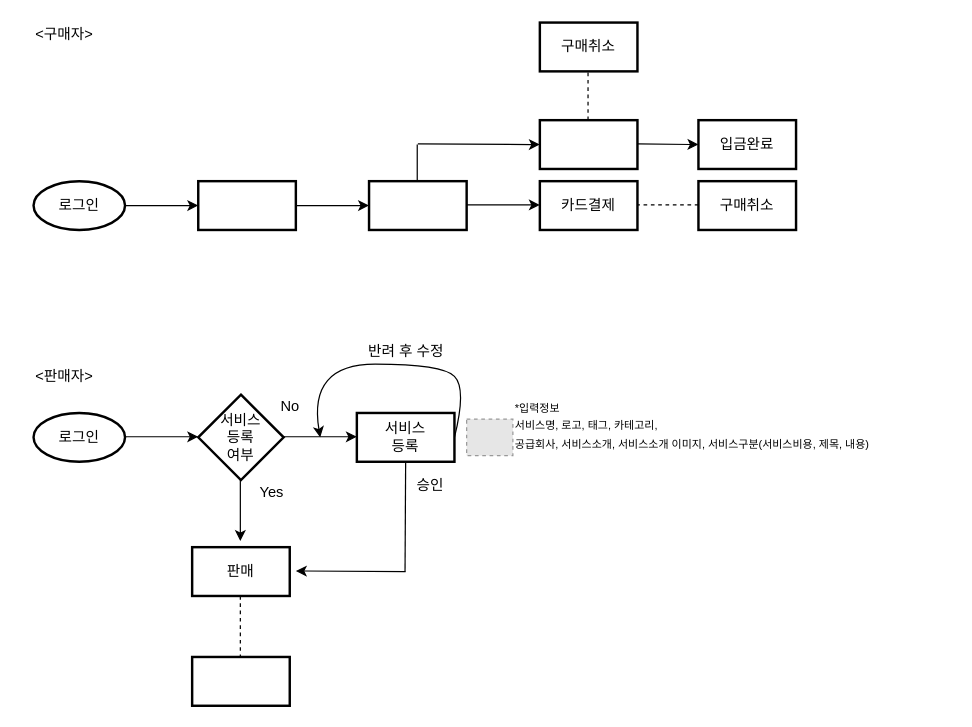
Some shapes in this 972 by 727 pixel diagram are drawn without their labels. Grey dashed boxes stand in for pictures. The centre of each missing label's shape, as x and y in pixels:
구매: the point at 417,205
서비스탐색: the point at 246,205
입금대기: the point at 588,144
판매취소: the point at 240,680
